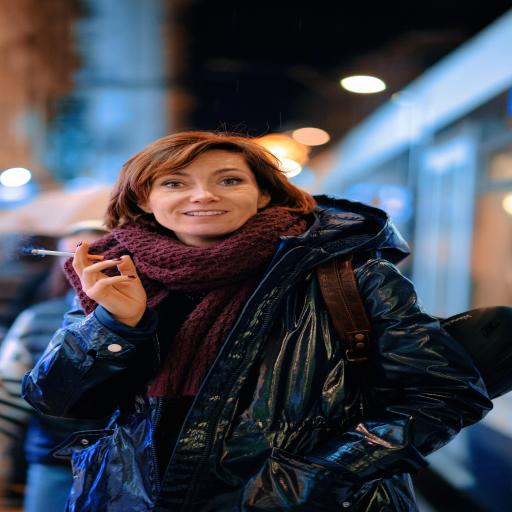terdeteksi pegang rokok: (18, 222, 128, 314)
